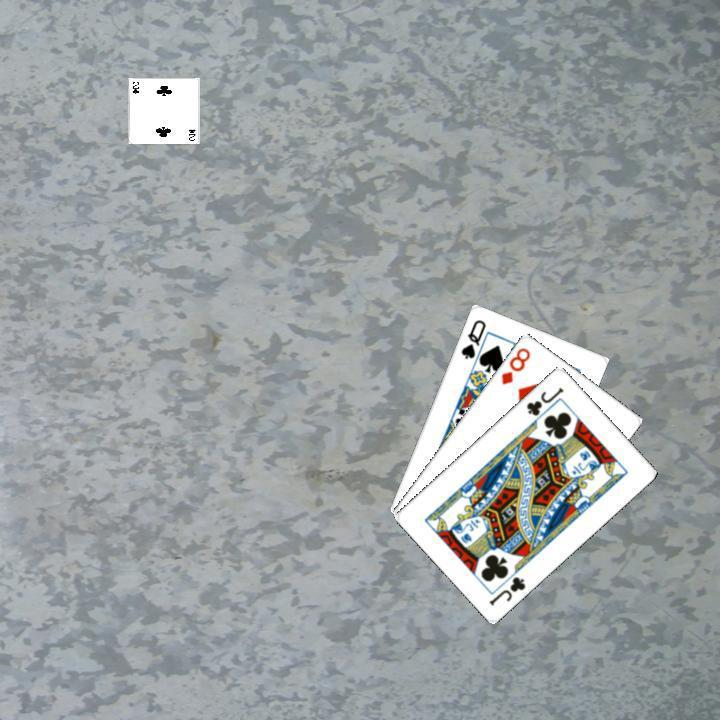8: (497, 343, 532, 387)
J: (522, 382, 566, 418), (484, 571, 528, 607)
Q: (456, 315, 488, 361)
